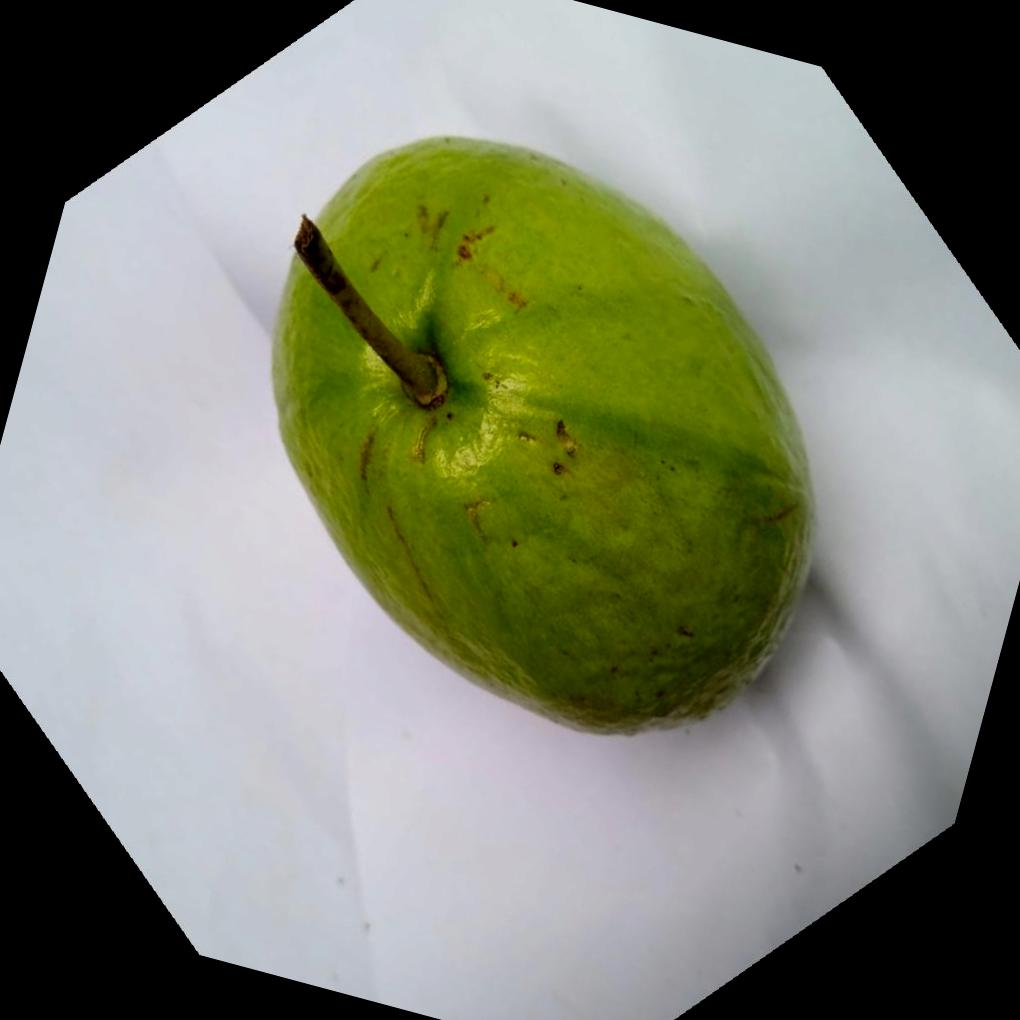FreshGuava: (272, 132, 818, 740)
